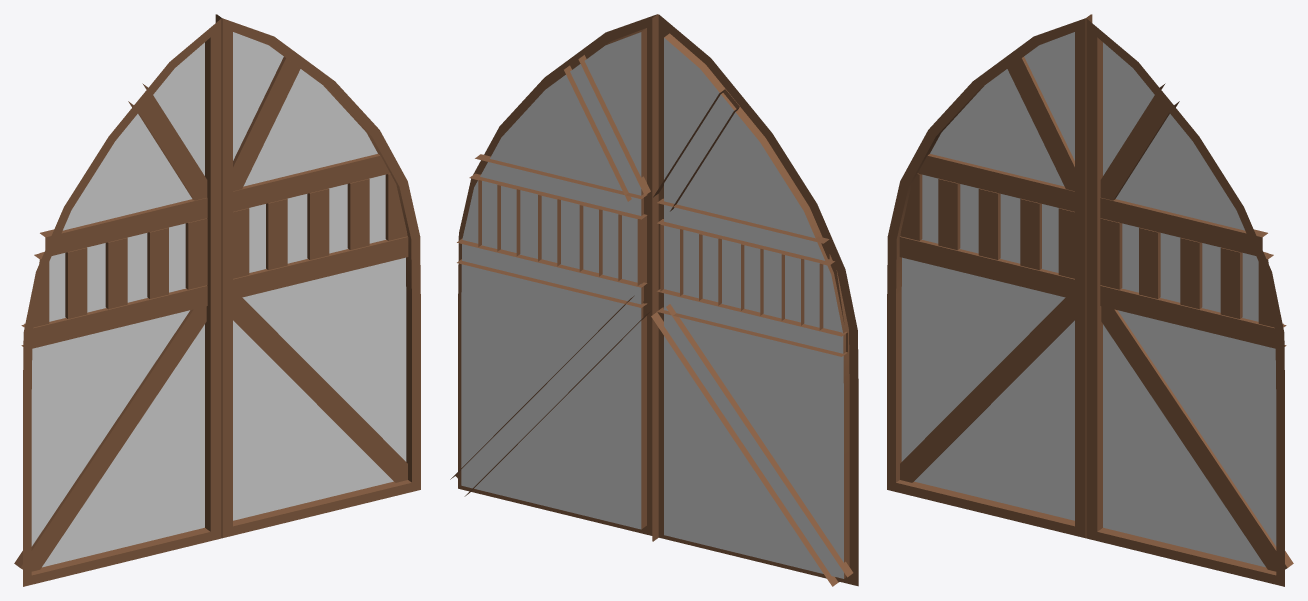
Rendered from BoathouseDoors.fbx.
3 renders of one model, left to right at view 1: azimuth 30°, elevation 25°; view 2: azimuth 150°, elevation 25°; view 3: azimuth 330°, elevation 25°, orthographic.
Parts seen in each view (by area): view 1: BoathouseDoor; view 2: BoathouseDoor; view 3: BoathouseDoor.
Part boxes in pixels (left/top/right/bottom): BoathouseDoor: left=14, top=14, right=420, bottom=586; BoathouseDoor: left=450, top=14, right=858, bottom=586; BoathouseDoor: left=887, top=14, right=1293, bottom=586.
Bounding box in the file's own units: 243 × 304 × 10.58.
